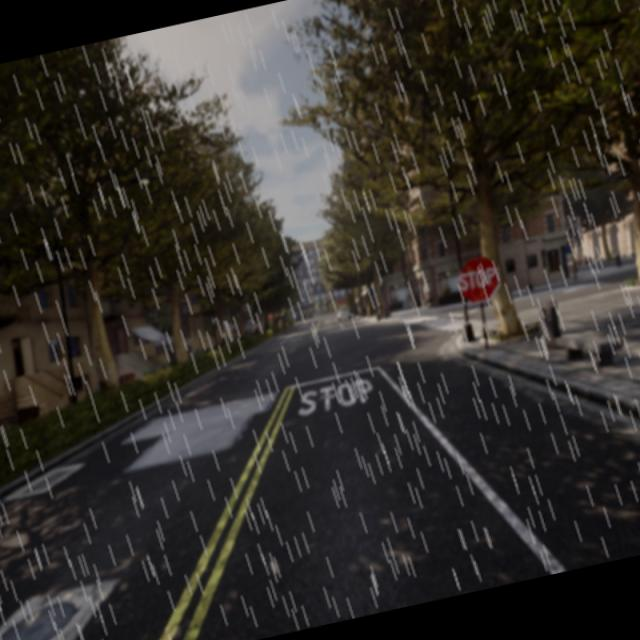stop sign: (454, 253, 502, 306)
